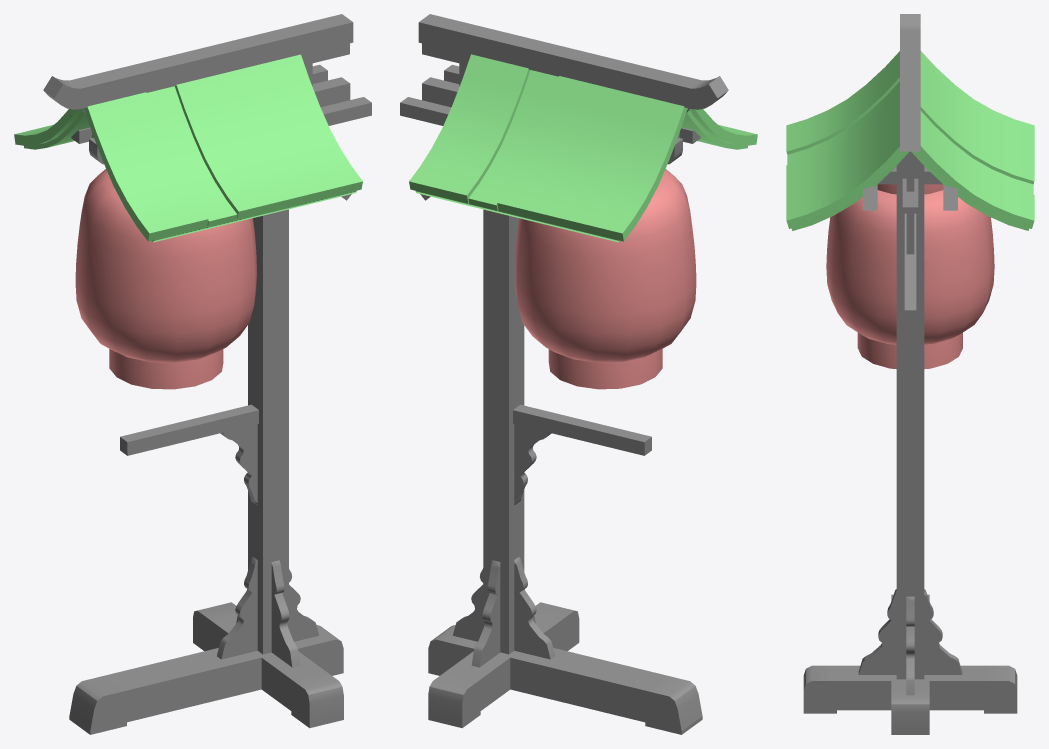
The model's file is SM_ENV_LKNVLD_InnSignboard_B.gltf.
3 renders of one model, left to right at view 1: azimuth 30°, elevation 25°; view 2: azimuth 150°, elevation 25°; view 3: azimuth 270°, elevation 25°, orthographic. The views are drawn at different scales.
Parts seen in each view (by area): view 1: SM_ENV_LKNVLD_InnSignboard_B; view 2: SM_ENV_LKNVLD_InnSignboard_B; view 3: SM_ENV_LKNVLD_InnSignboard_B.
Part boxes in pixels (x1,y1,x2,y2): SM_ENV_LKNVLD_InnSignboard_B: (14, 14, 371, 734); SM_ENV_LKNVLD_InnSignboard_B: (400, 14, 757, 734); SM_ENV_LKNVLD_InnSignboard_B: (786, 14, 1034, 734).
Size of the model in its own units: 1.29 by 2.67 by 1.
